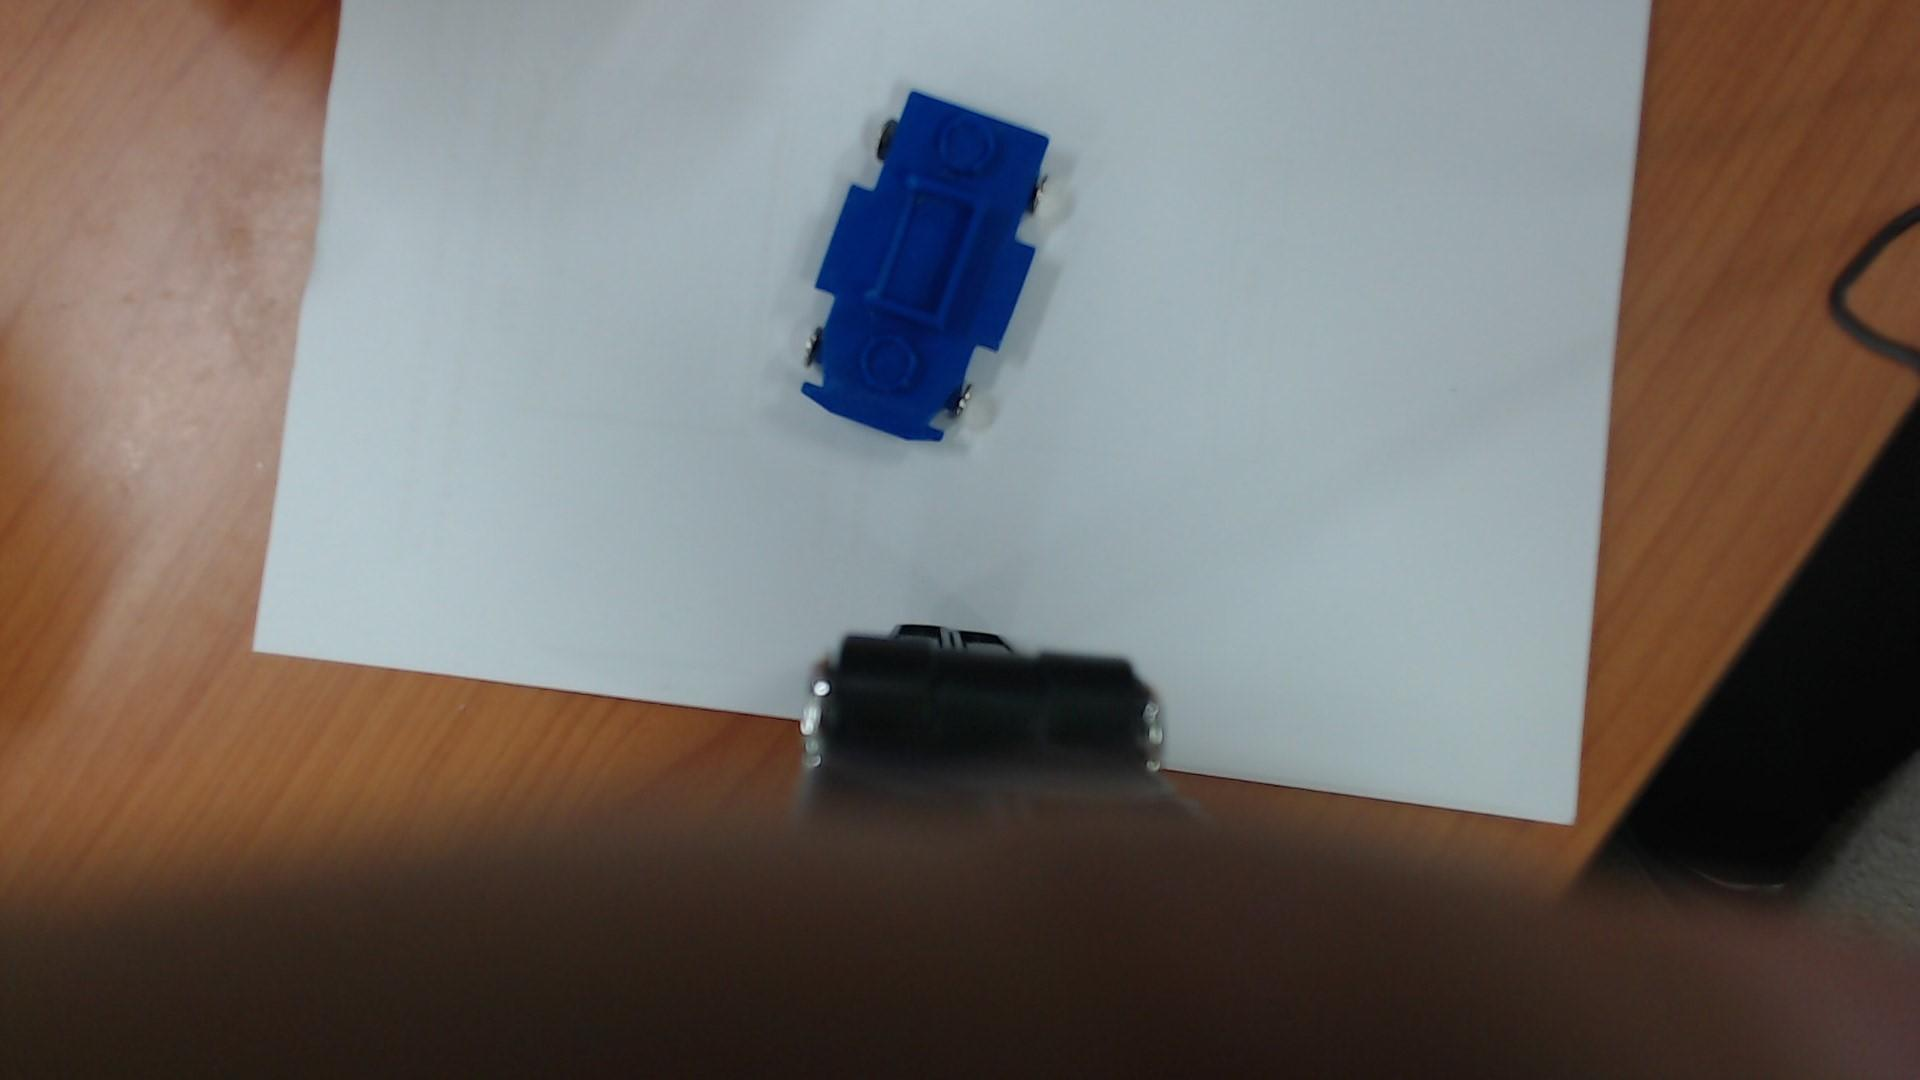lower_ng: (856, 169, 1000, 340)
